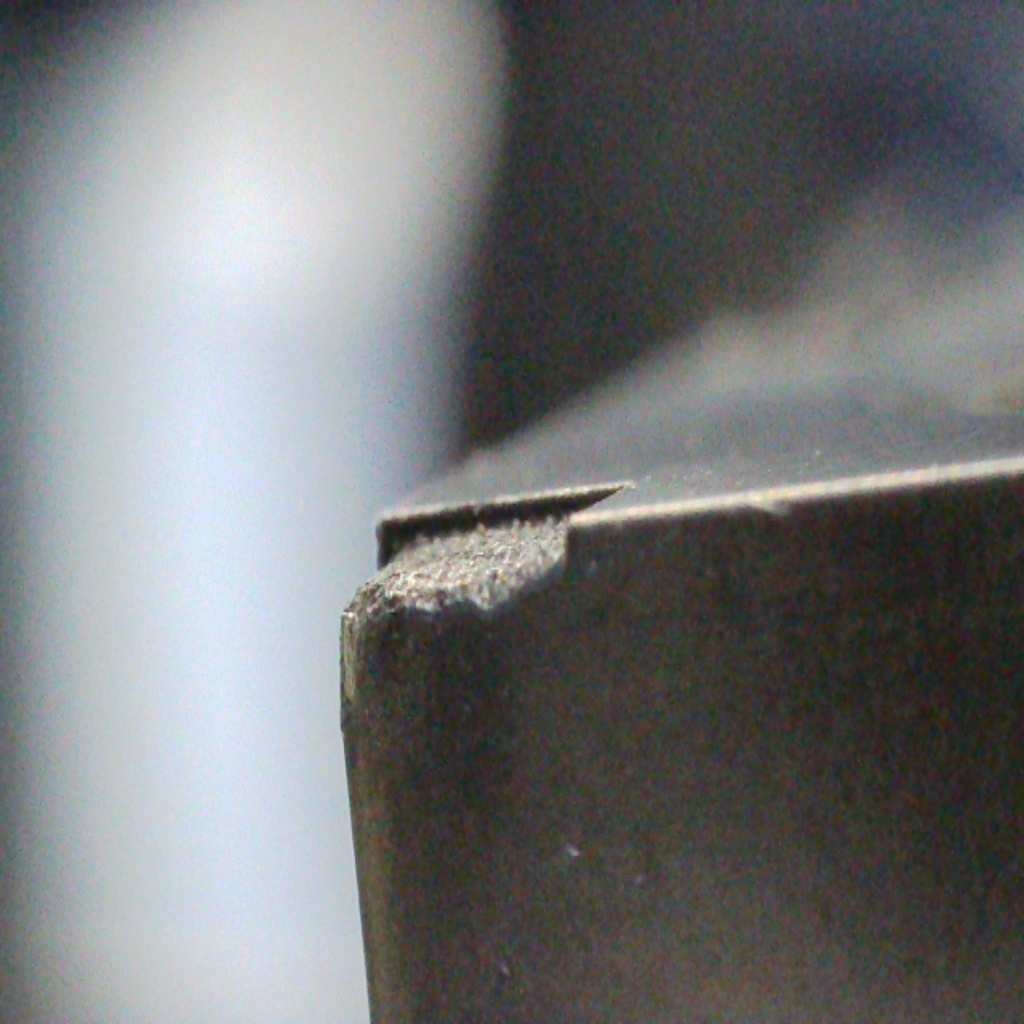flank_wear: (339, 607, 376, 712)
